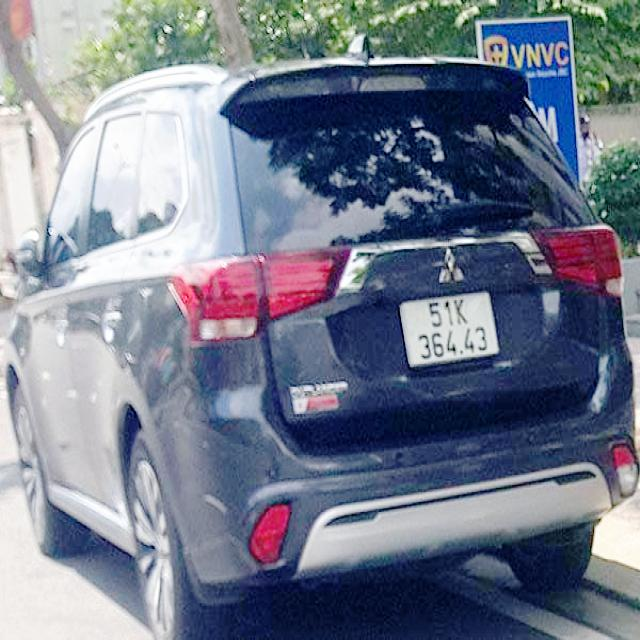license_plate: (402, 288, 500, 368)
